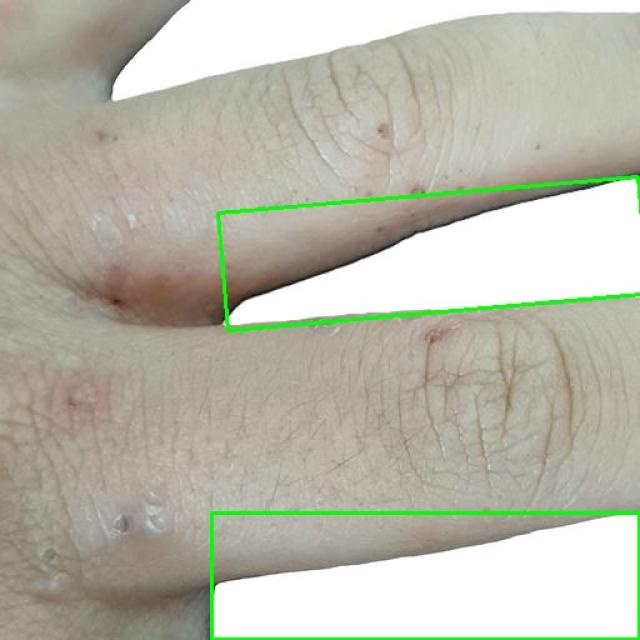Scabies: (218, 177, 640, 330), (211, 512, 639, 639)
